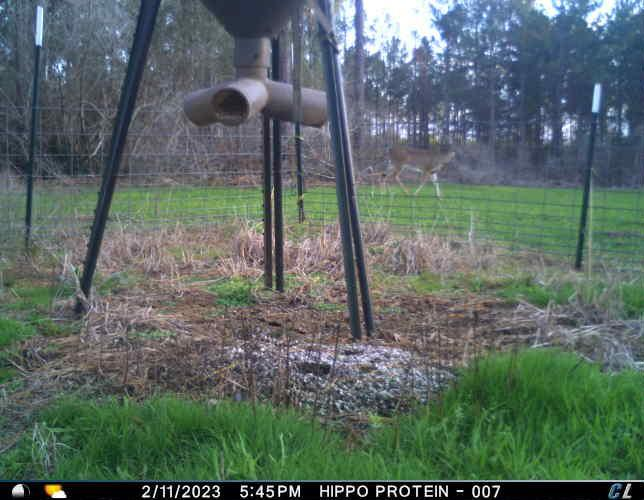Deer: (385, 134, 461, 200)
